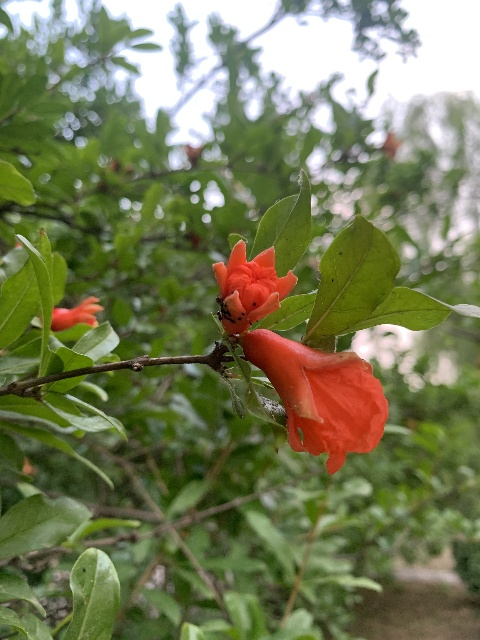flower: (240, 330, 389, 474), (213, 239, 297, 336), (50, 296, 104, 333)
